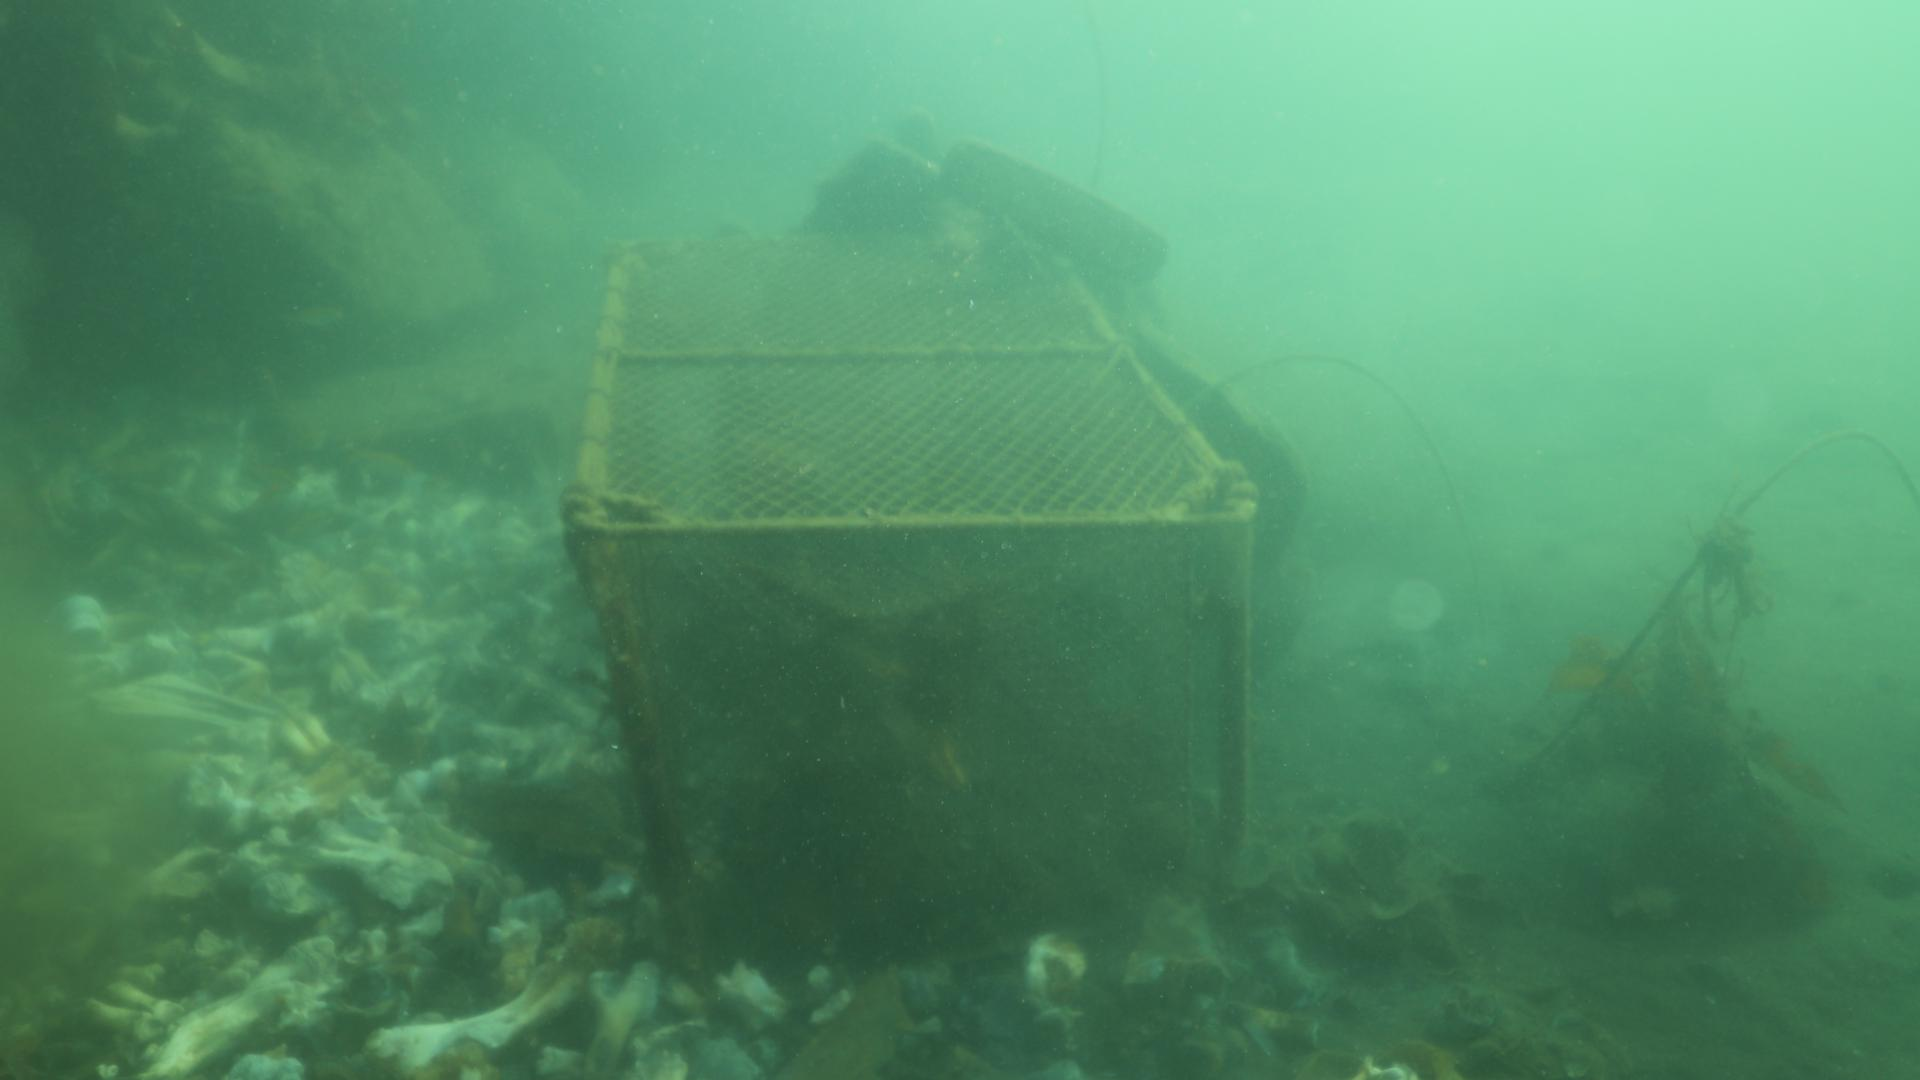rectangular fish trap: (564, 236, 1258, 957)
